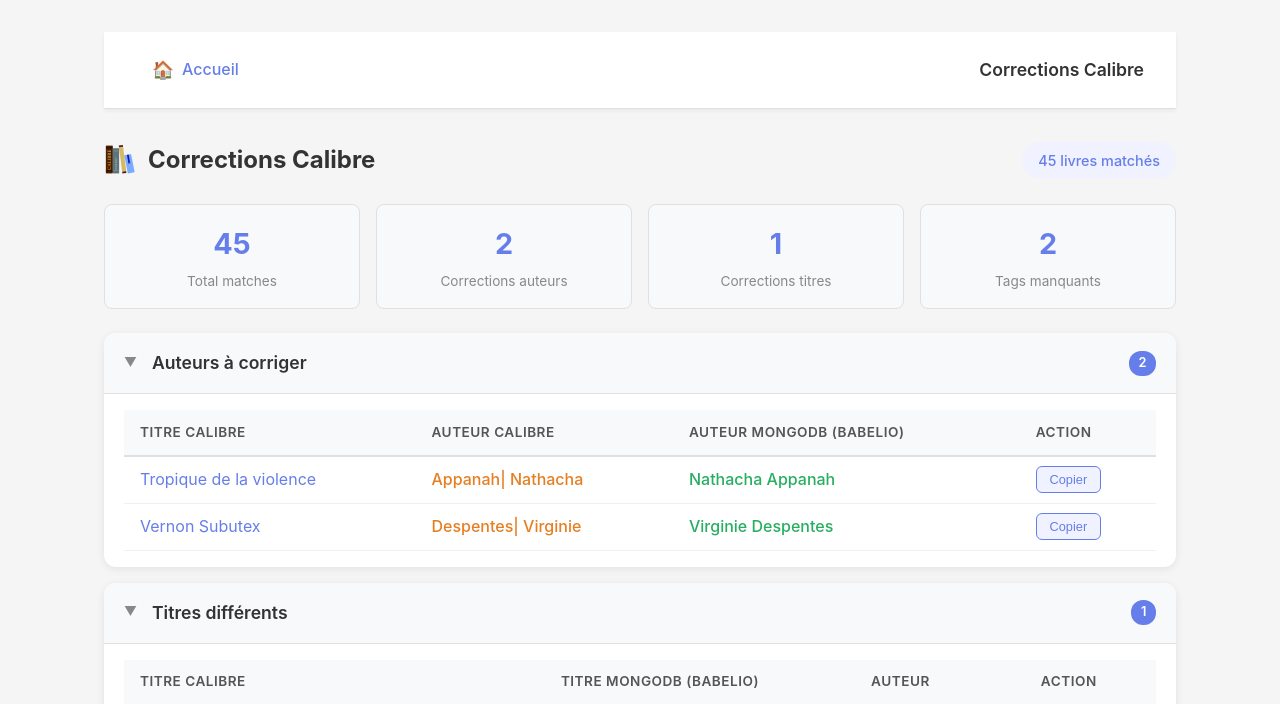
Test: CalibreCorrections.vue › Collapsible sections › toggles section visibility on header click
This screenshot has width=1280, height=704.
Expected: the number of rows with test id "author-row" is 2, x1=124 y1=456 x2=1156 y2=503; x1=124 y1=503 x2=1156 y2=550
Click header to collapse
Click the element with test id "section-authors-header": (640, 364) x1=104 y1=333 x2=1176 y2=394
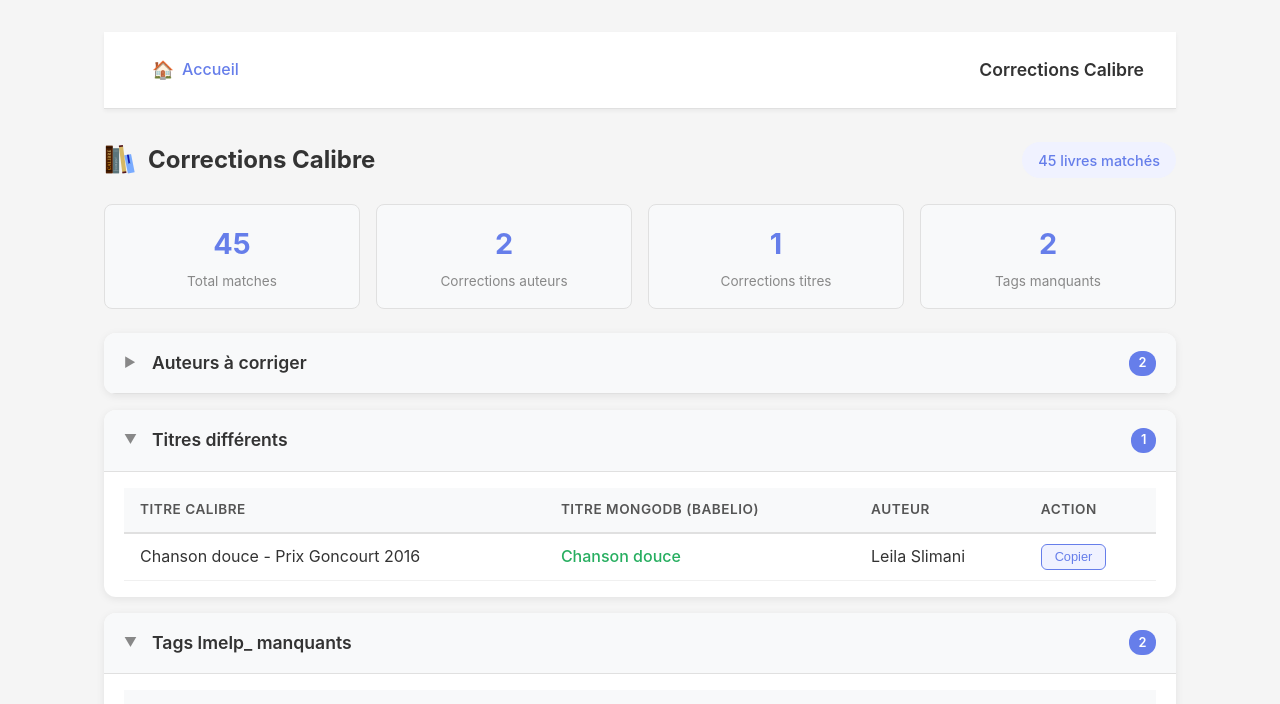
Result: no rows with test id "author-row" are shown
Click again to expand
Click the element with test id "section-authors-header": (640, 364) x1=104 y1=333 x2=1176 y2=394
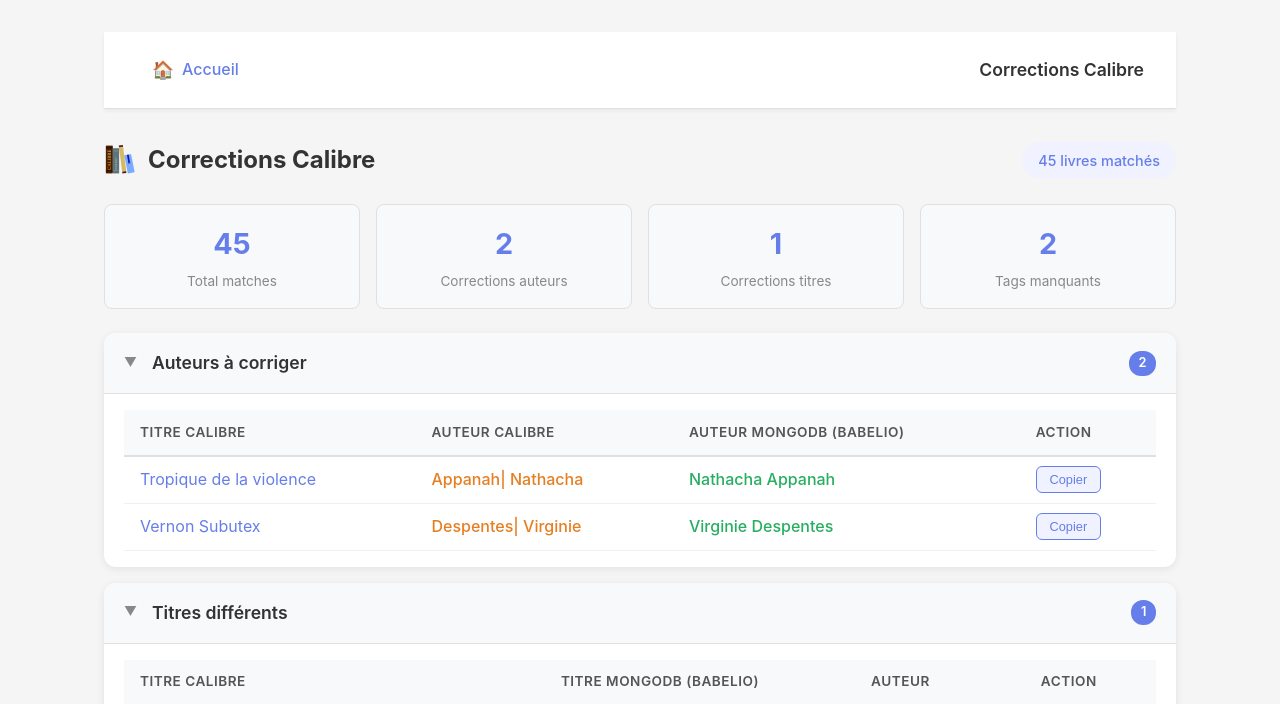
Result: the number of rows with test id "author-row" is 2 at x1=124 y1=456 x2=1156 y2=503; x1=124 y1=503 x2=1156 y2=550
